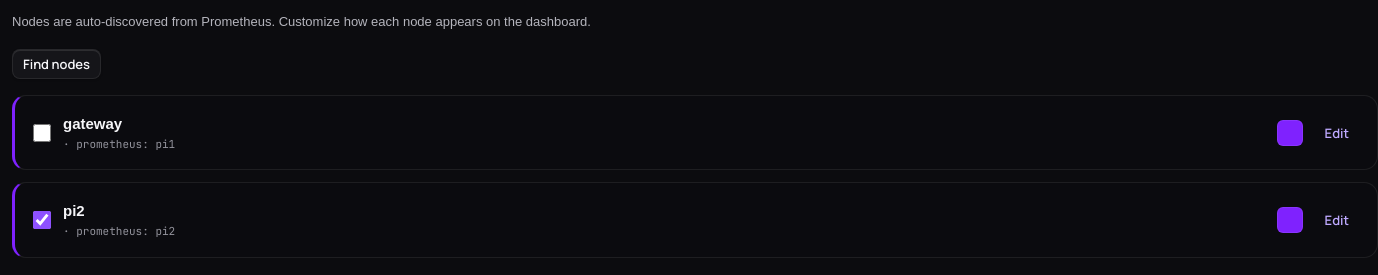
NodesTab Find nodes › a node the screen has meanwhile, by key or by its Prometheus label, is not added twice
Step 1. Click the button "Find nodes" → coordinates (56, 64), box [12,49,101,79]
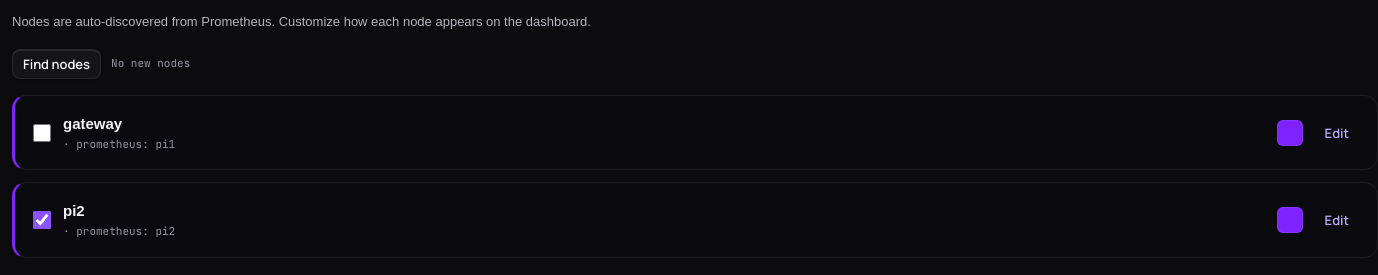
Check: the text "No new nodes" is shown, box [111,55,190,73]
